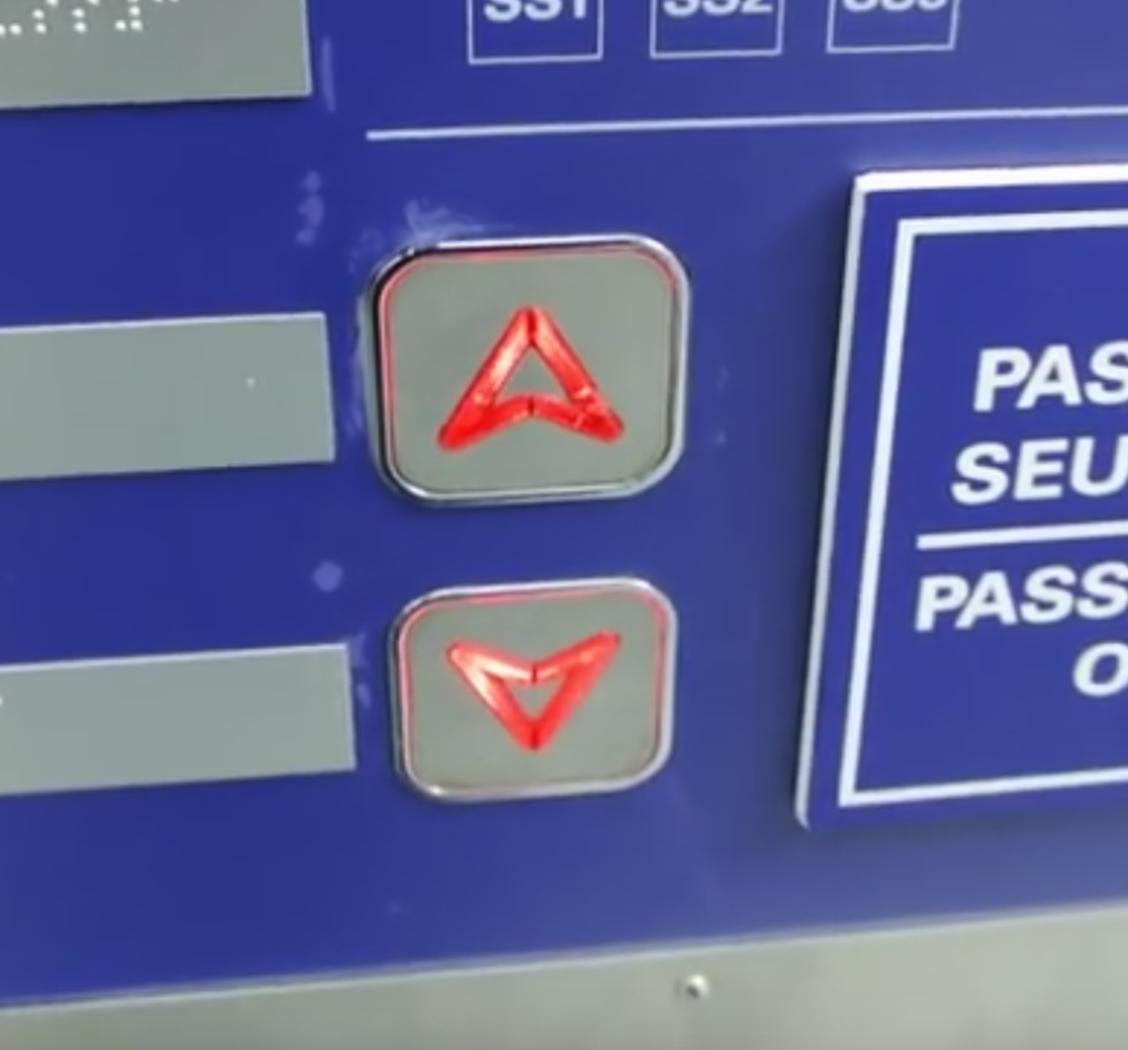down: (371, 575, 698, 802)
up: (361, 228, 699, 508)
